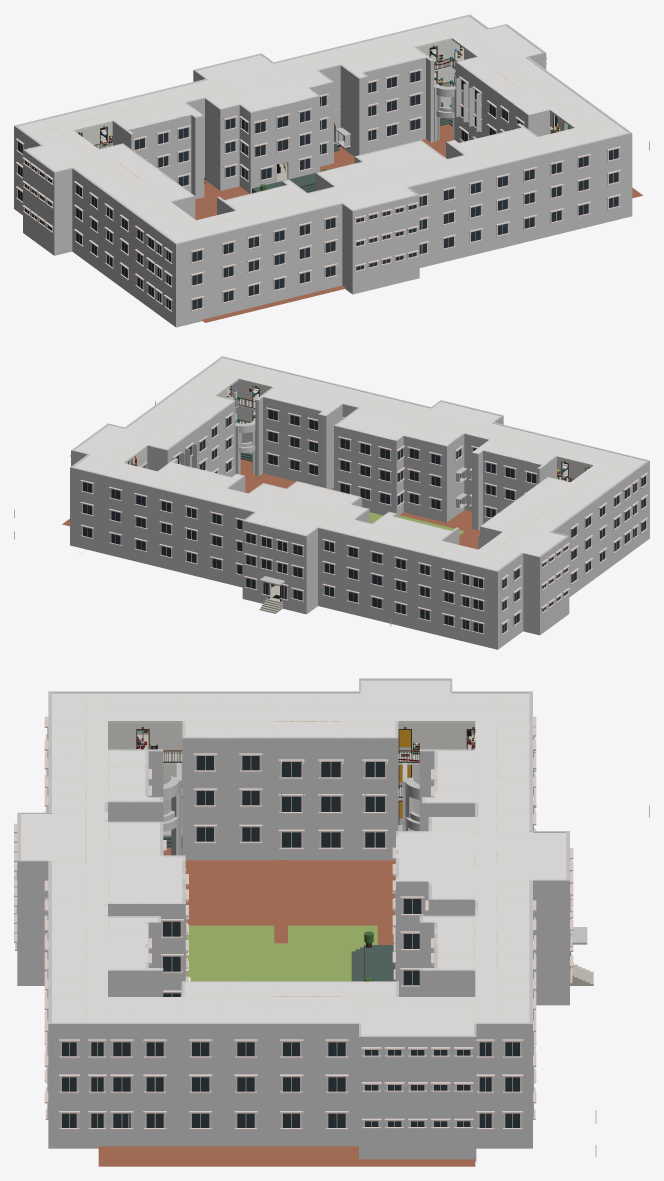
The model's file is building.glb.
3 renders of one model, top to bottom at view 1: azimuth 30°, elevation 25°; view 2: azimuth 150°, elevation 25°; view 3: azimuth 270°, elevation 25°, orthographic. The views are drawn at different scales.
Parts seen in each view (by area): view 1: static; view 2: static; view 3: static.
Boxes of the visible parts, <box> form: static: <box>14,14,649,327</box>; static: <box>14,356,649,649</box>; static: <box>14,678,649,1166</box>.
Bounding box in the file's own units: 73.02 × 11.16 × 51.68.
